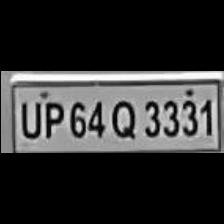1: (197, 94, 212, 135)
3: (137, 95, 159, 137), (158, 93, 178, 137), (179, 93, 197, 137)
4: (84, 95, 106, 139)
6: (65, 97, 85, 139)
P: (38, 97, 62, 139)
Q: (105, 95, 136, 139)
U: (14, 95, 40, 139)
